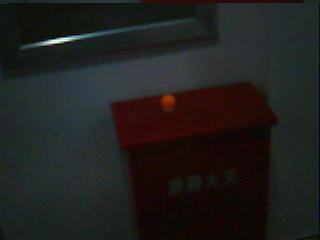oball: (161, 93, 176, 108)
